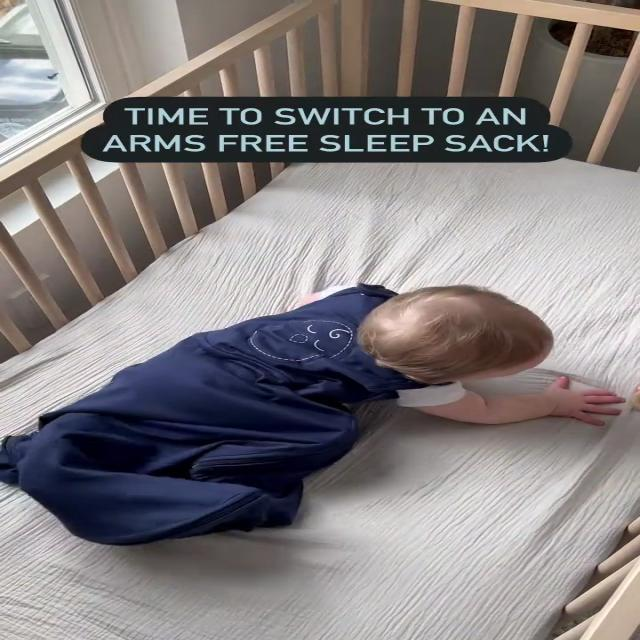baby: (0, 268, 633, 560)
